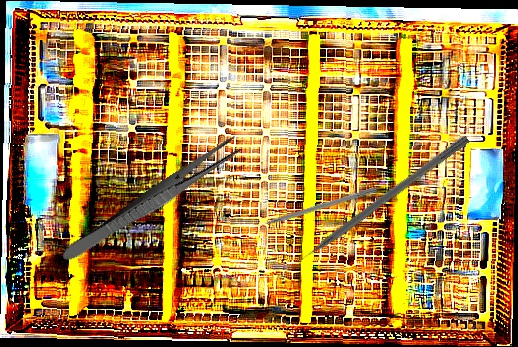Dressing Forceps: (58, 133, 246, 269)
Pusher: (283, 132, 471, 274), (245, 185, 379, 232)
